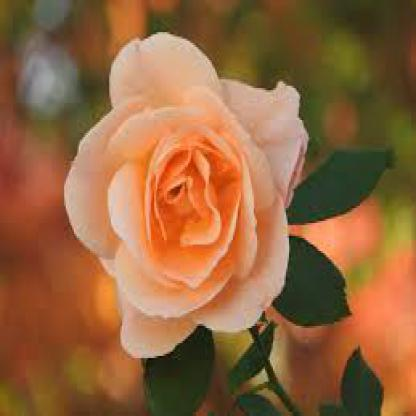Rose-Mawar: (62, 29, 309, 361)
